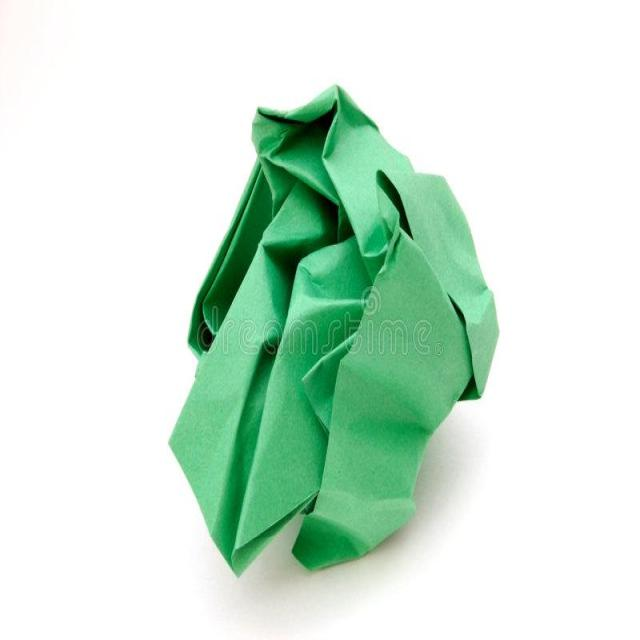Dry Waste: (166, 84, 501, 578)
